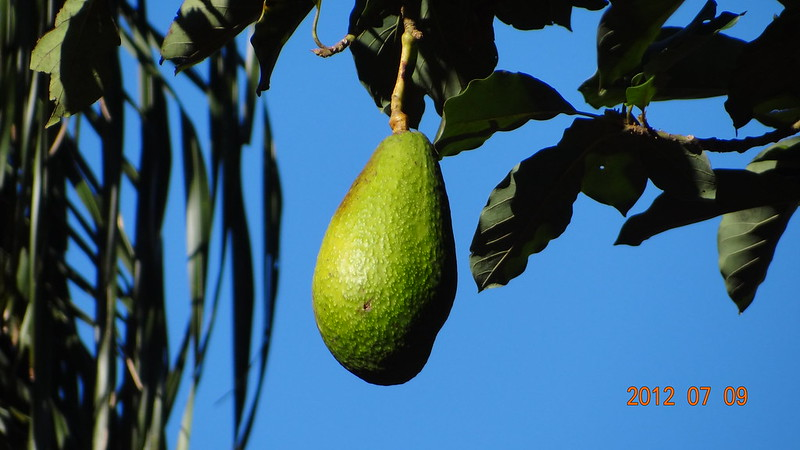abacate: (308, 131, 464, 386)
